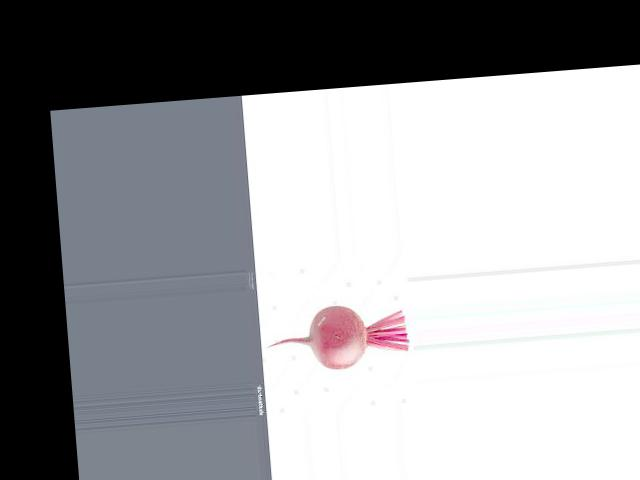beet: (262, 300, 410, 374)
